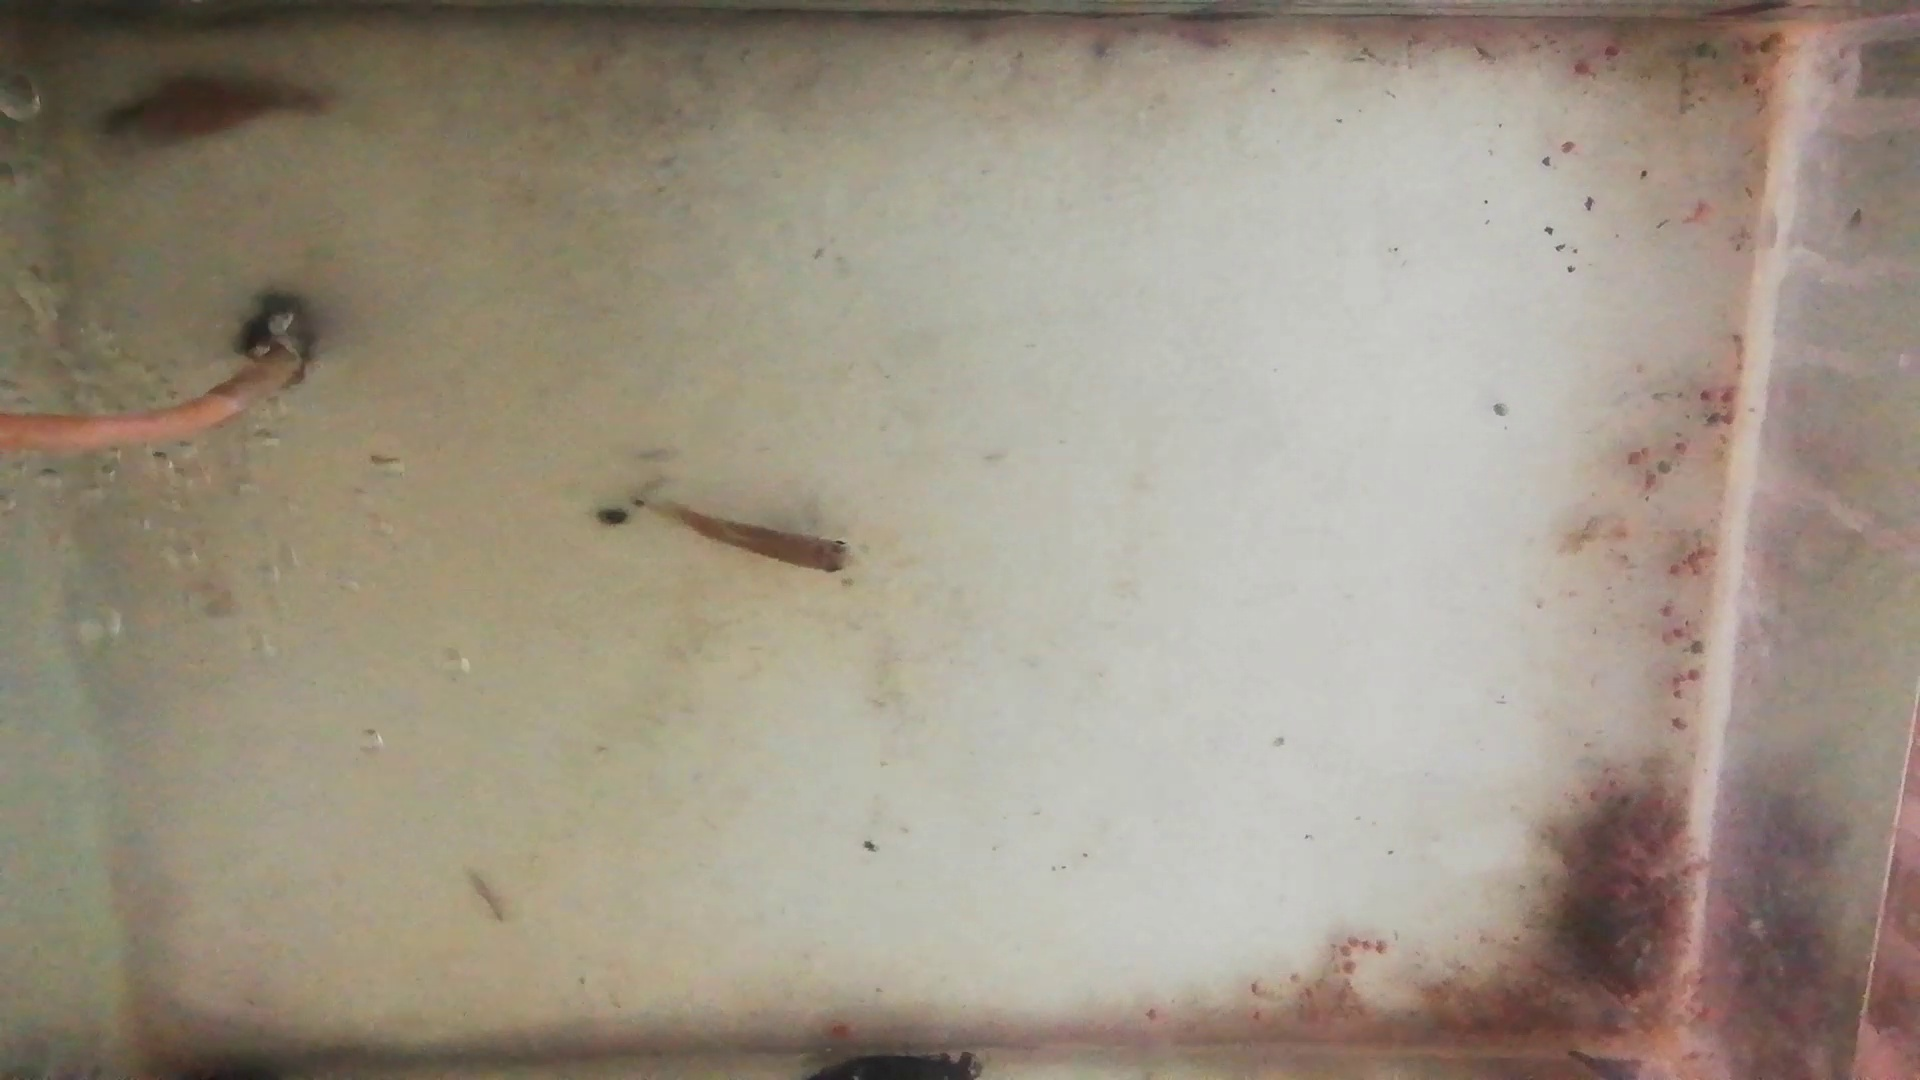fish: (91, 69, 328, 145), (661, 506, 861, 578)
